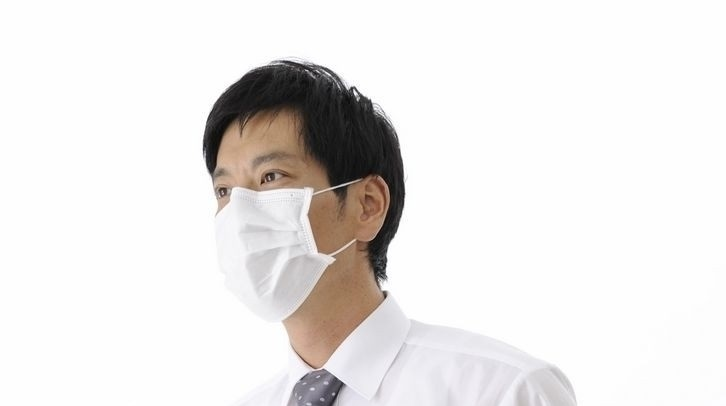face_mask: (204, 115, 337, 296)
